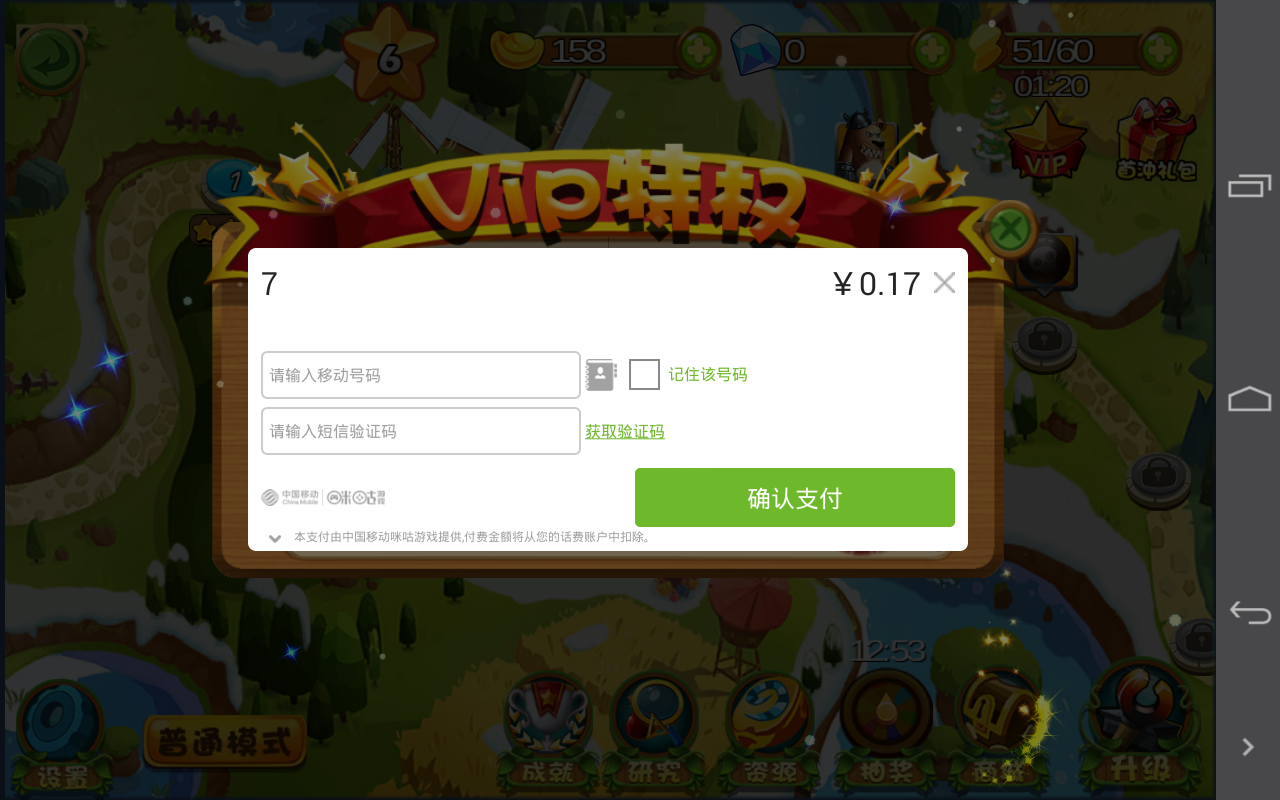button: (631, 466, 959, 530)
checkbox: (624, 355, 755, 398)
imgbutton: (934, 266, 958, 302)
textview: (258, 351, 584, 402)
